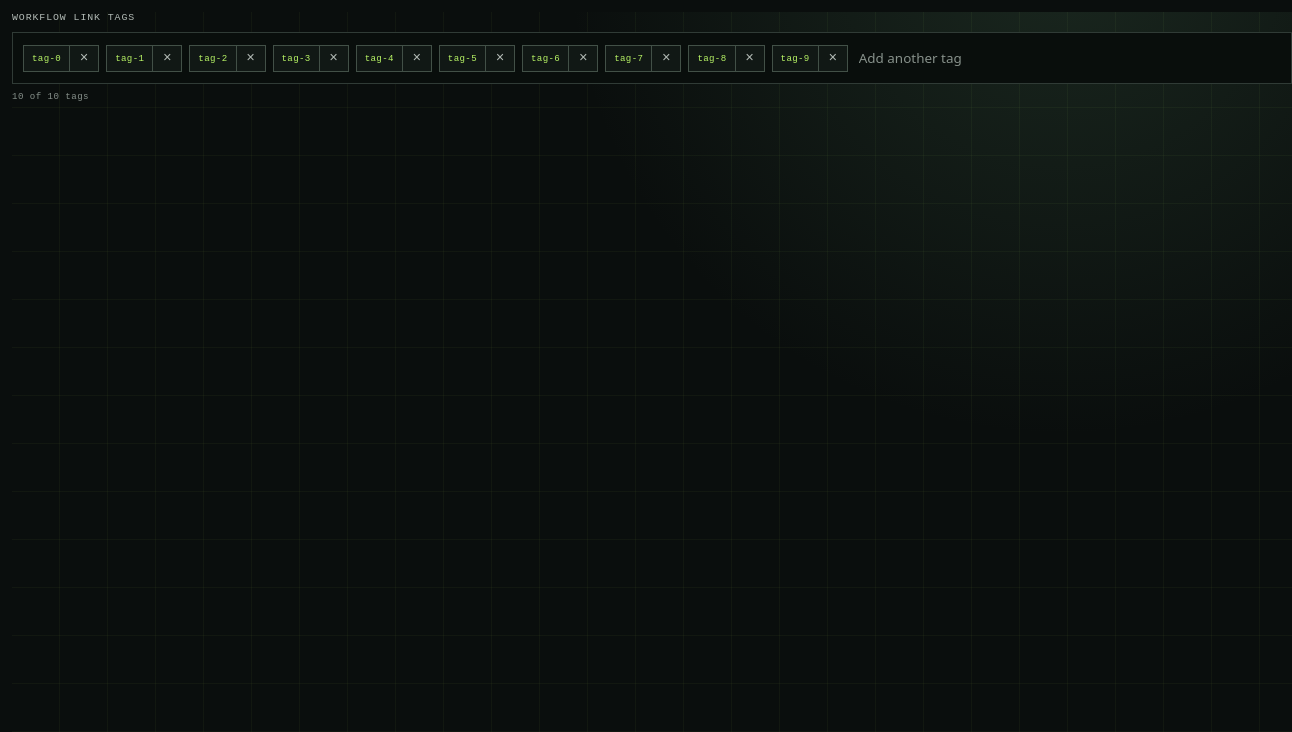
Test: TagInput › uses domain-neutral labels and limit feedback for workflow links
Type "overflow" into the field labelled "Workflow link tags" at [1068, 58], box [855,43,1281,73]
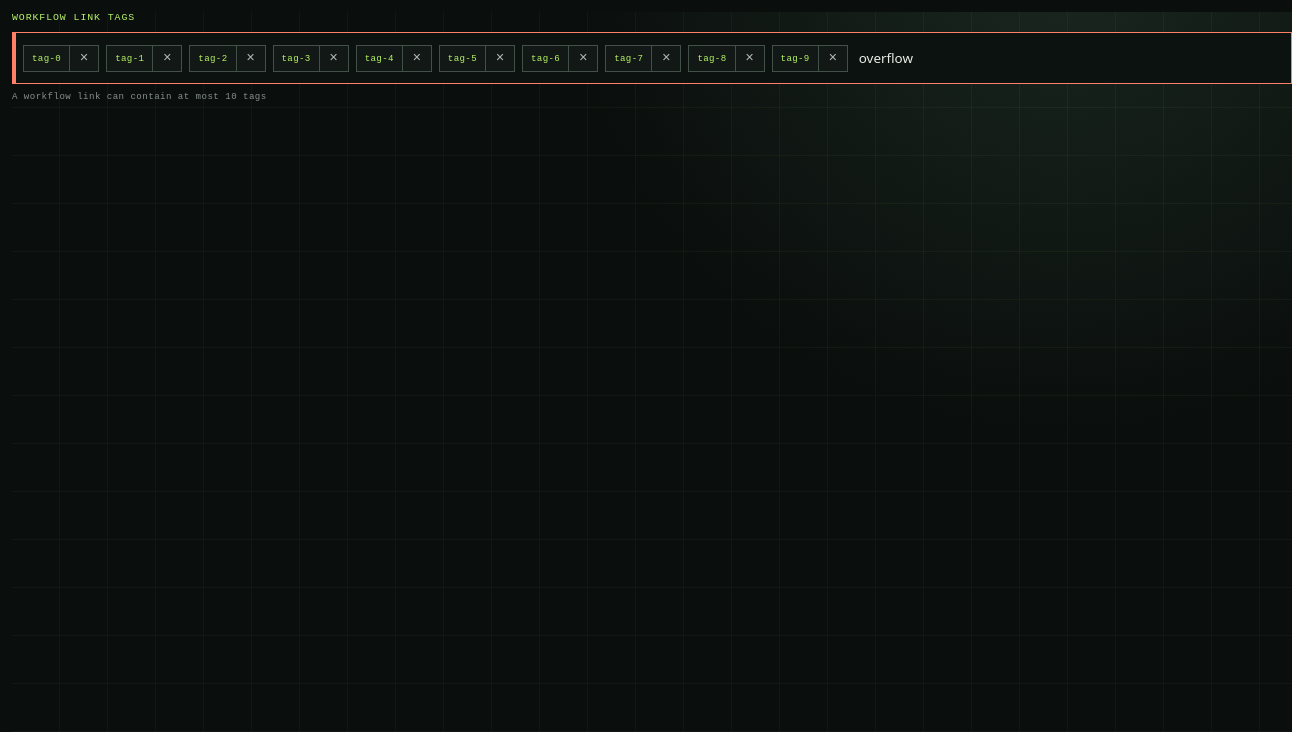
Check: the text "A workflow link can contain at most 10 tags" is shown, box [12,91,267,102]
